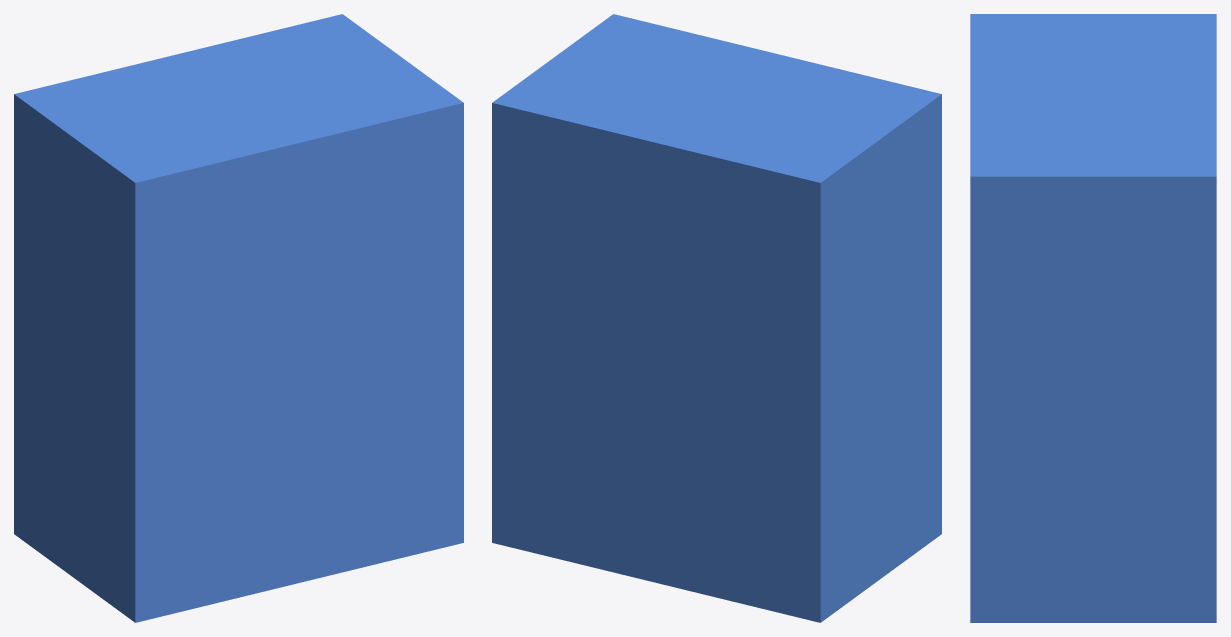
3 views of the same model, side by side, from view 1: azimuth 30°, elevation 25°; view 2: azimuth 150°, elevation 25°; view 3: azimuth 270°, elevation 25° (orthographic).
Visible parts, largest first — view 1: NM1-250S_3300_225A; view 2: NM1-250S_3300_225A; view 3: NM1-250S_3300_225A.
Boxes of the visible parts, <box> form: NM1-250S_3300_225A: <box>14,14,463,622</box>; NM1-250S_3300_225A: <box>492,14,941,622</box>; NM1-250S_3300_225A: <box>970,14,1216,622</box>.
Bounding box in the file's own units: 125 × 160 × 80.
